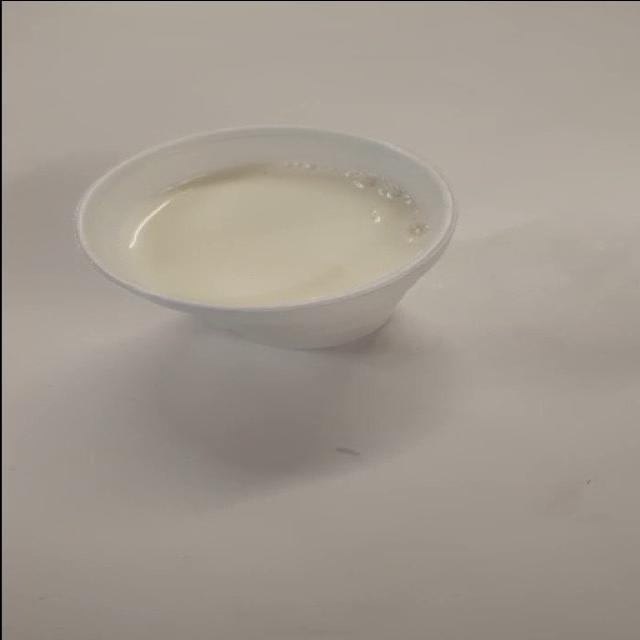Milk: (55, 107, 498, 382)
